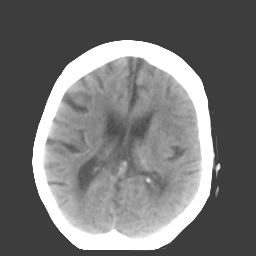ischemic: (153, 98, 187, 157)
